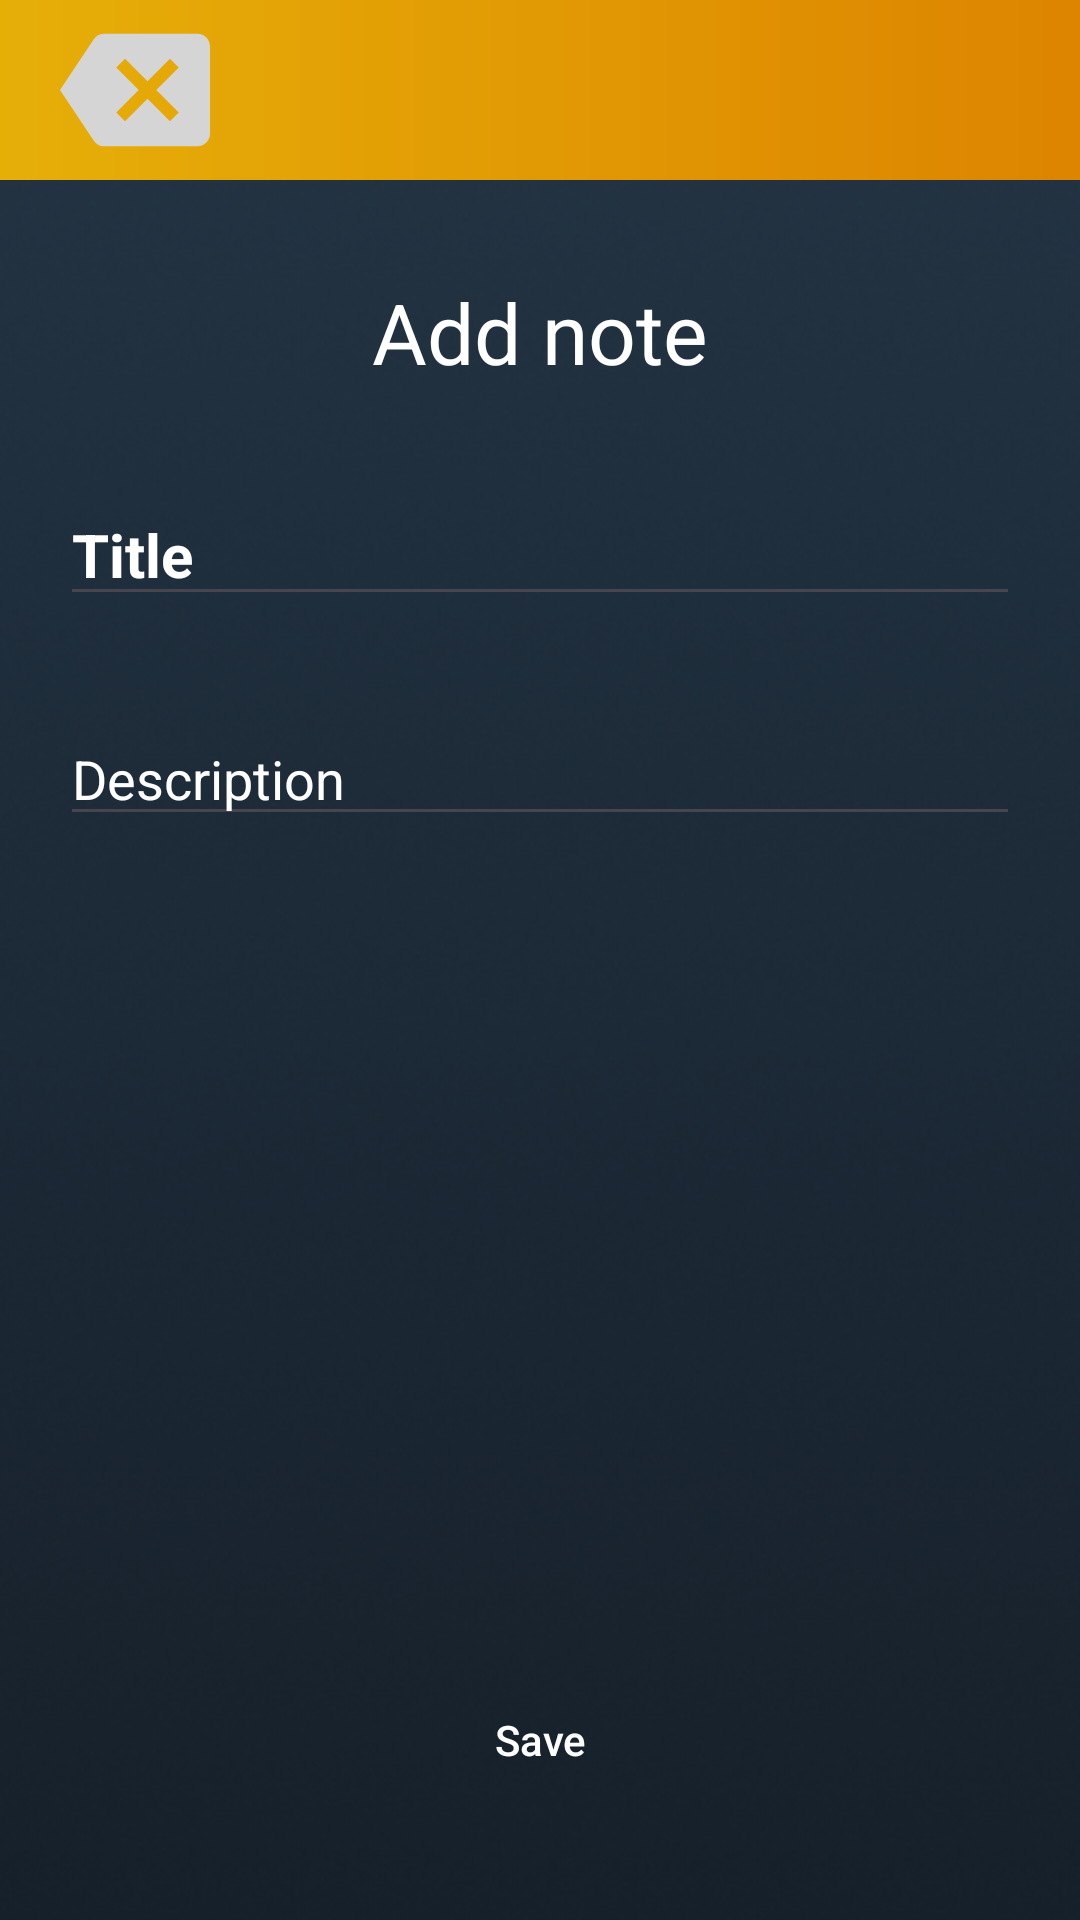

Named icons in this screenshot (1080 × 1920) and their centers, (x=x, y=y):
backspace: (x=135, y=90)
